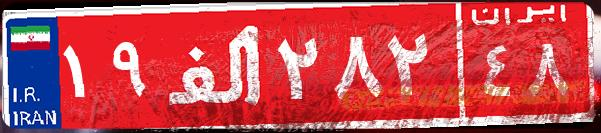1: (57, 26, 110, 107)
2: (385, 28, 445, 110), (273, 28, 330, 110)
4: (475, 38, 525, 113)
8: (330, 28, 385, 110), (525, 38, 570, 115)
9: (110, 28, 158, 105)
الف: (158, 15, 273, 115)
